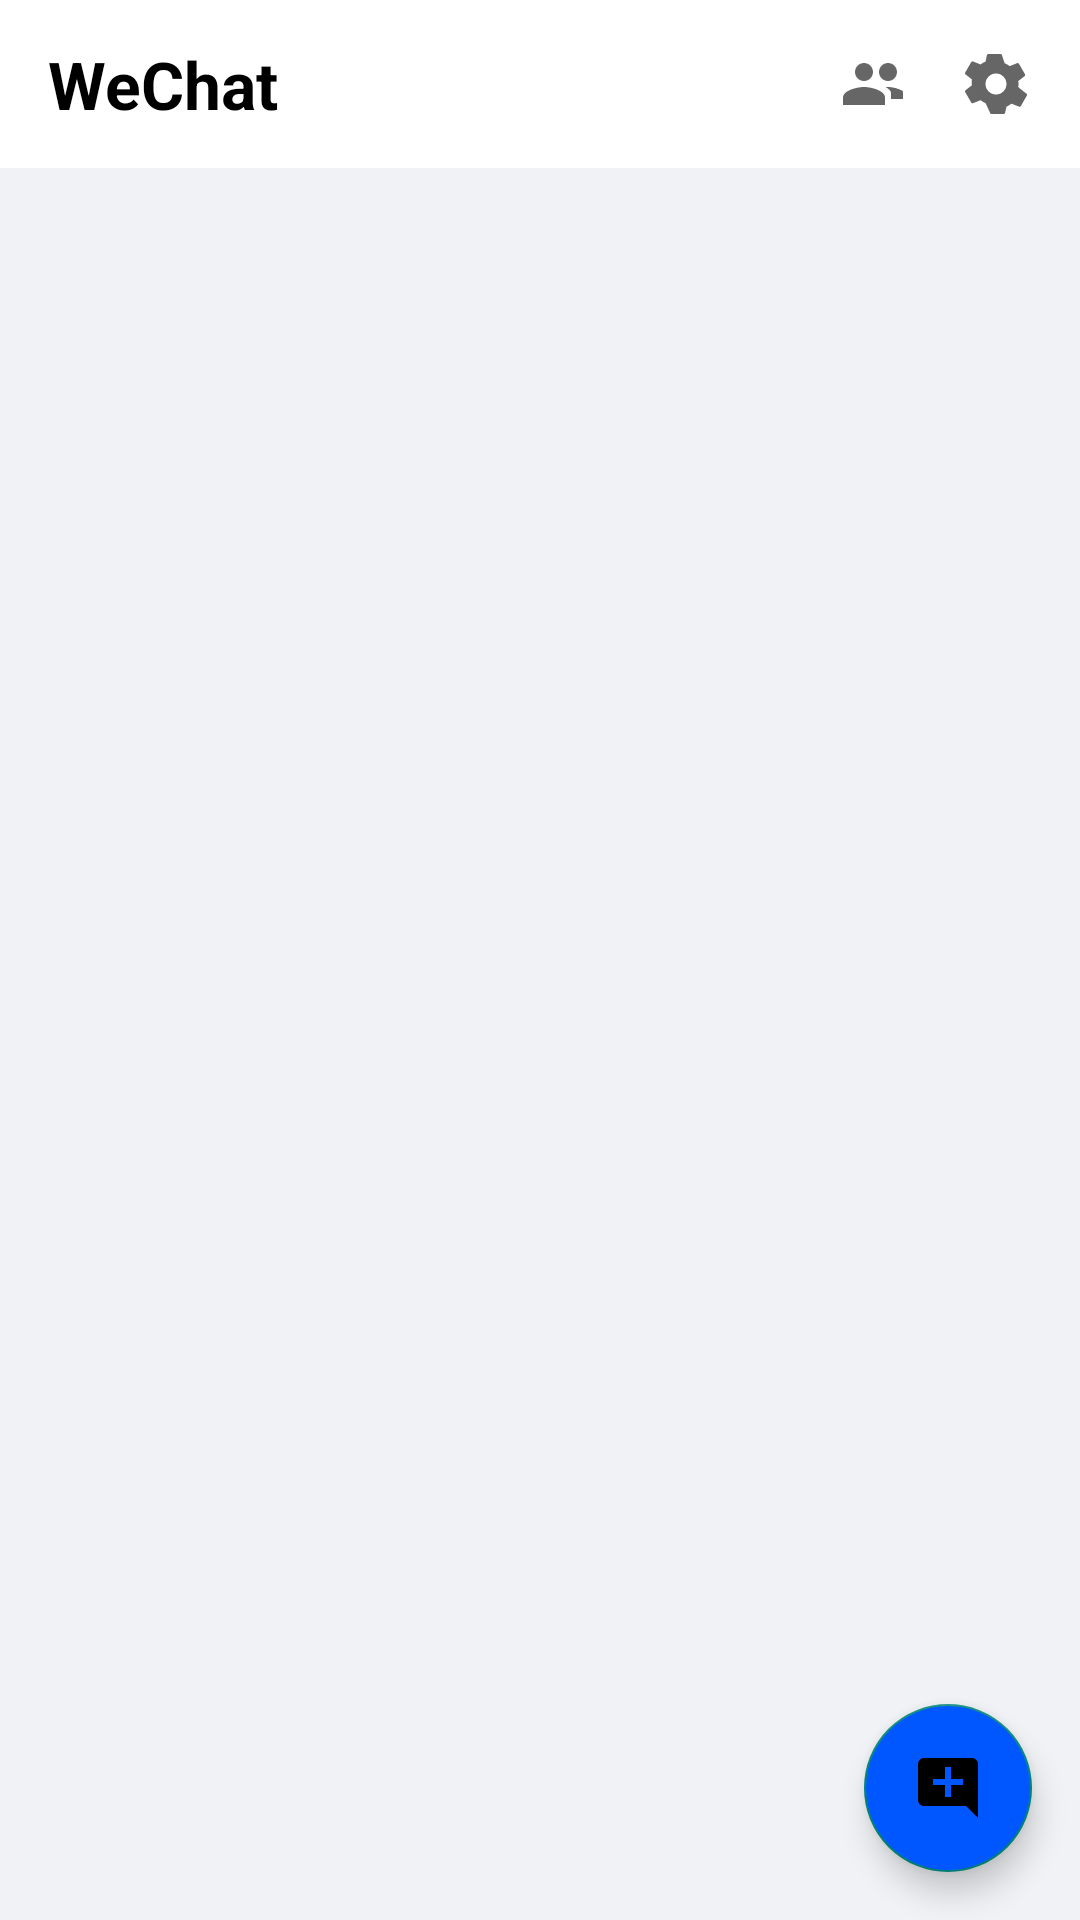

Icons on this 1080x1920 Android screen, each with the point to tap as (x=x, y=y):
add comment: (x=948, y=1788)
settings: (x=996, y=84)
